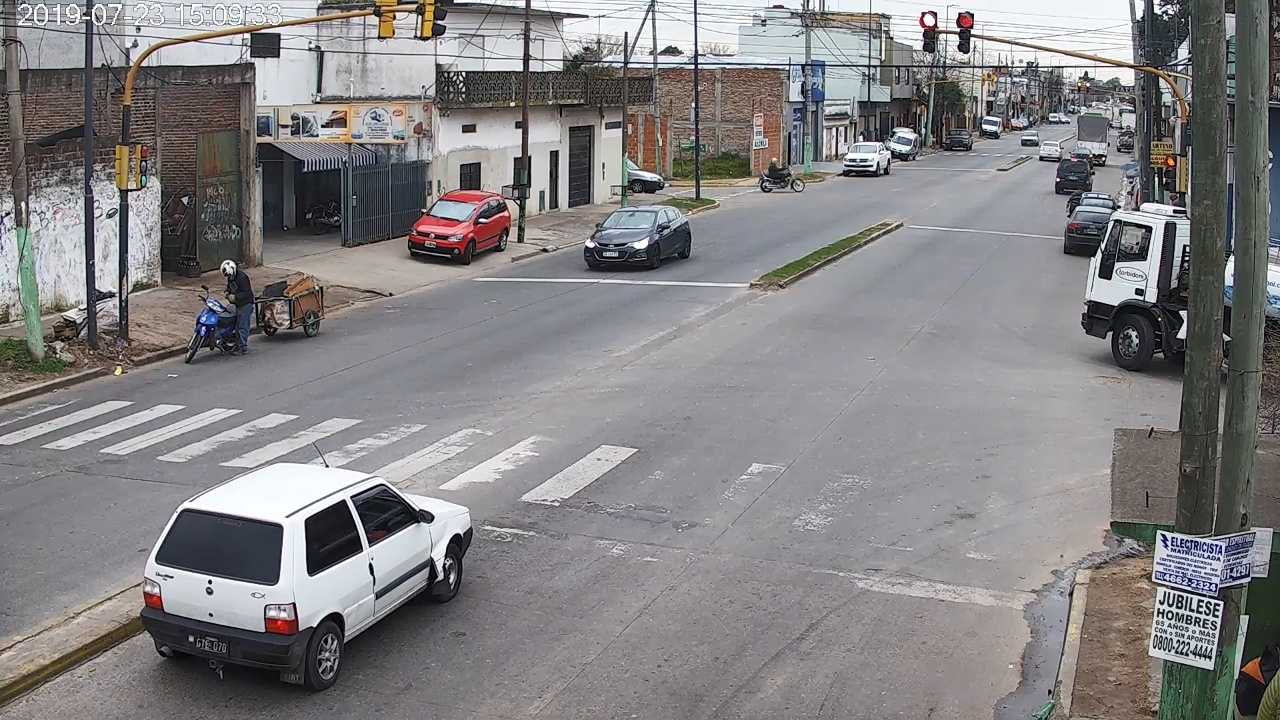car: (142, 462, 474, 690)
traffic light: (958, 11, 972, 54), (923, 10, 936, 53), (1165, 154, 1176, 191)
